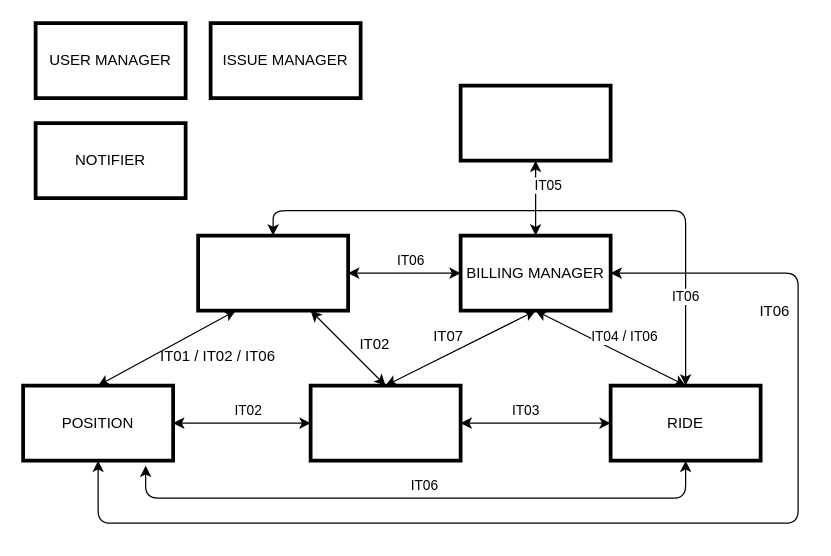
This 831x556 diagram has some shape labels left out. Each missing label, with the centre of its shape:
BOOKING MANAGER: pixel 535 122
CAR MANAGER: pixel 385 422
GEOLOCATION: pixel 272 272
